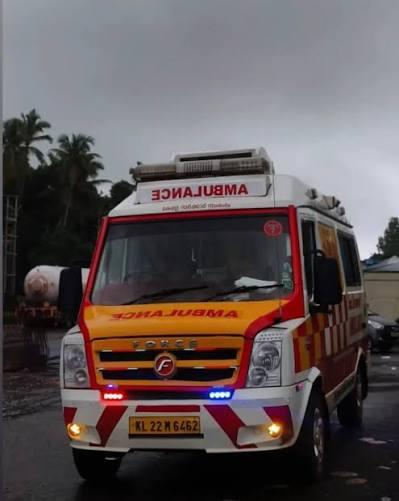ambulance: (58, 145, 369, 477)
